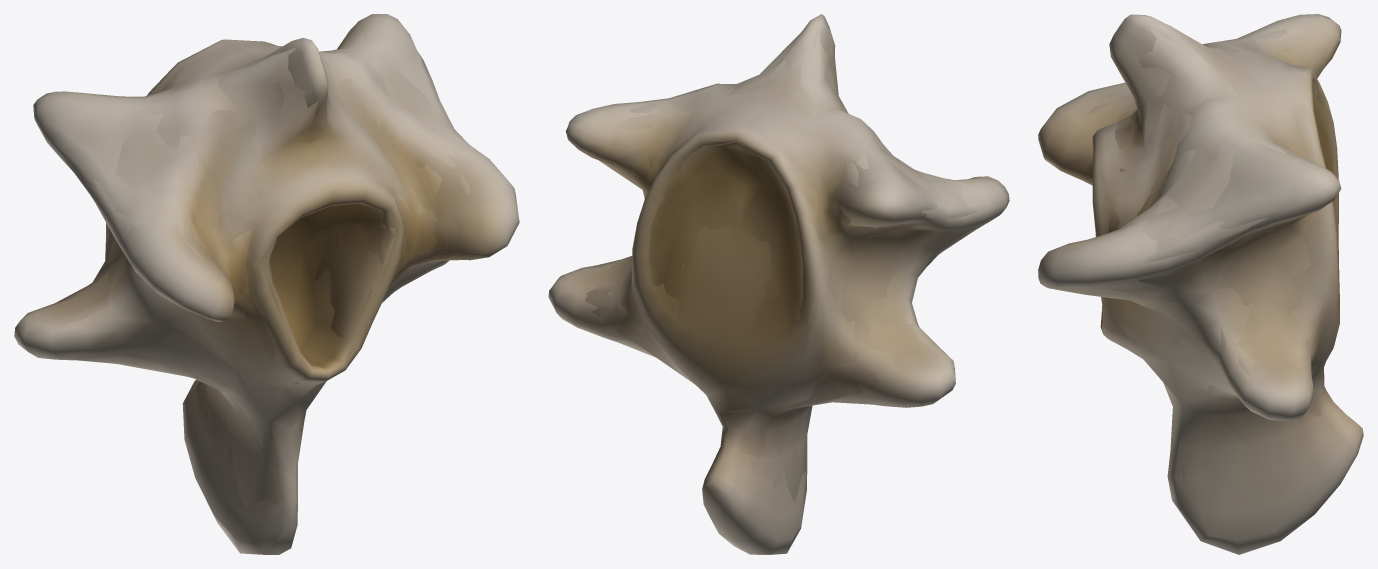
File: vertebra cervicalis 5.fbx
3 views of the same model, side by side, from view 1: azimuth 30°, elevation 25°; view 2: azimuth 150°, elevation 25°; view 3: azimuth 270°, elevation 25° (orthographic). The views are drawn at different scales.
Parts seen in each view (by area): view 1: vertebra cervicalis 5, vertebra cervicalis 5 low; view 2: vertebra cervicalis 5, vertebra cervicalis 5 low; view 3: vertebra cervicalis 5, vertebra cervicalis 5 low.
Boxes of the visible parts, x1,y1,x2,y2 form: vertebra cervicalis 5: (14,14,519,554); vertebra cervicalis 5 low: (52,30,469,507); vertebra cervicalis 5: (548,14,1009,554); vertebra cervicalis 5 low: (583,31,978,502); vertebra cervicalis 5: (1038,14,1363,554); vertebra cervicalis 5 low: (1073,27,1335,479).
Bounding box in the file's own units: 4.87 × 5.87 × 3.23.
Materials: 1 (1 with a texture image).
